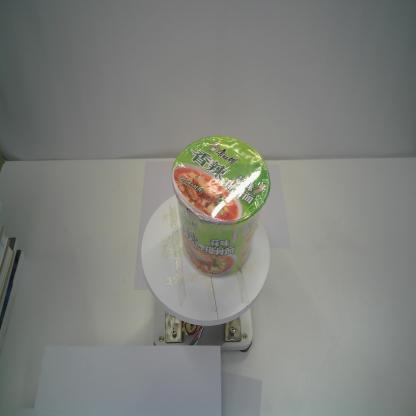Instant Noodles: (171, 135, 272, 277)
